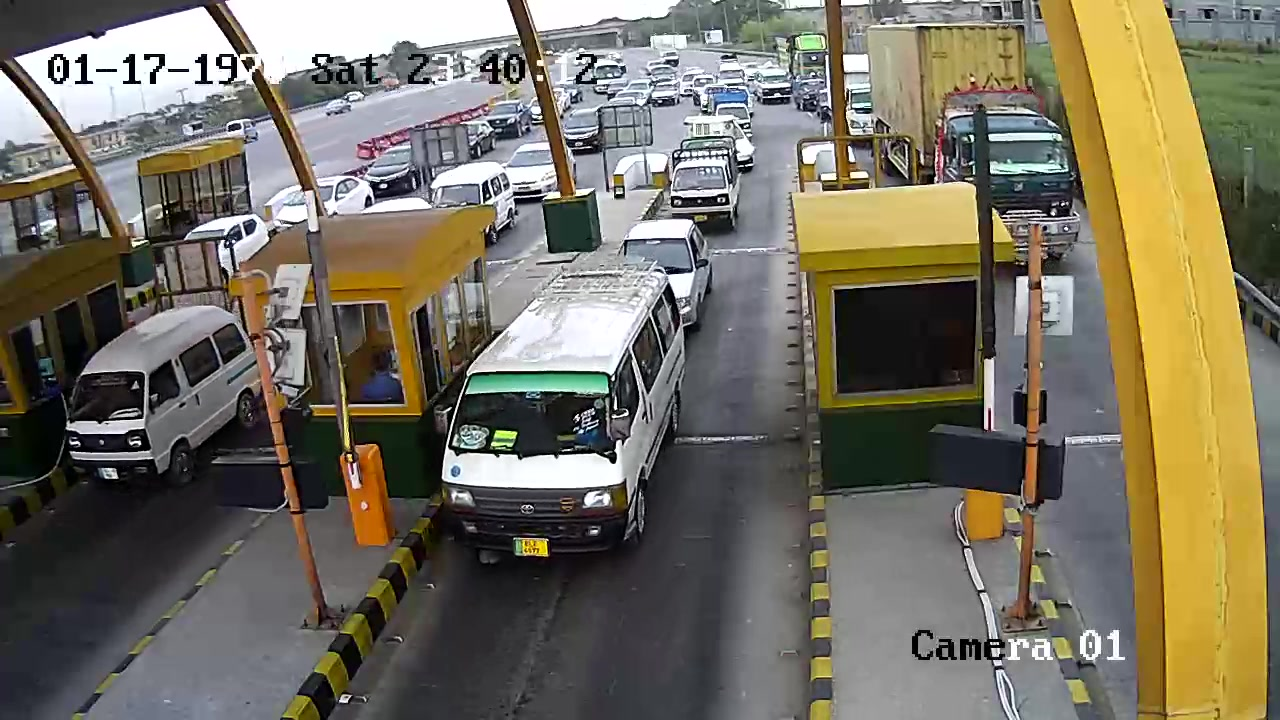F3: (432, 260, 692, 577)
